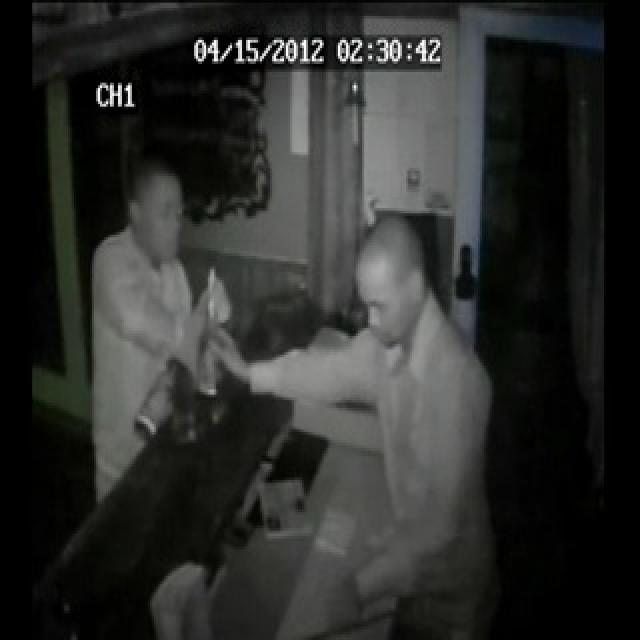thief: (267, 187, 463, 385), (70, 159, 312, 305)
